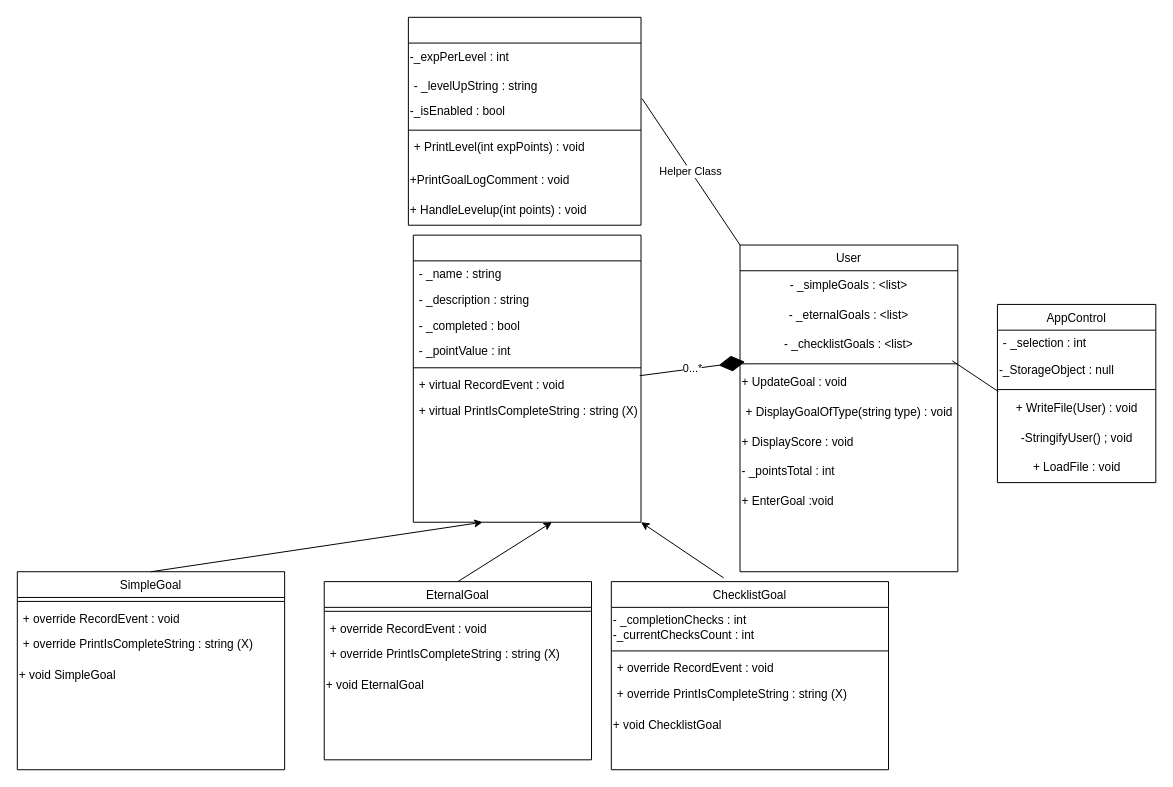
This 1173x787 diagram has some shape labels left out. The box of each missing label's shape, as (x1, y1, x2, y2) in pixels:
Gamify: (407, 16, 641, 225)
Goal: (412, 234, 641, 522)
